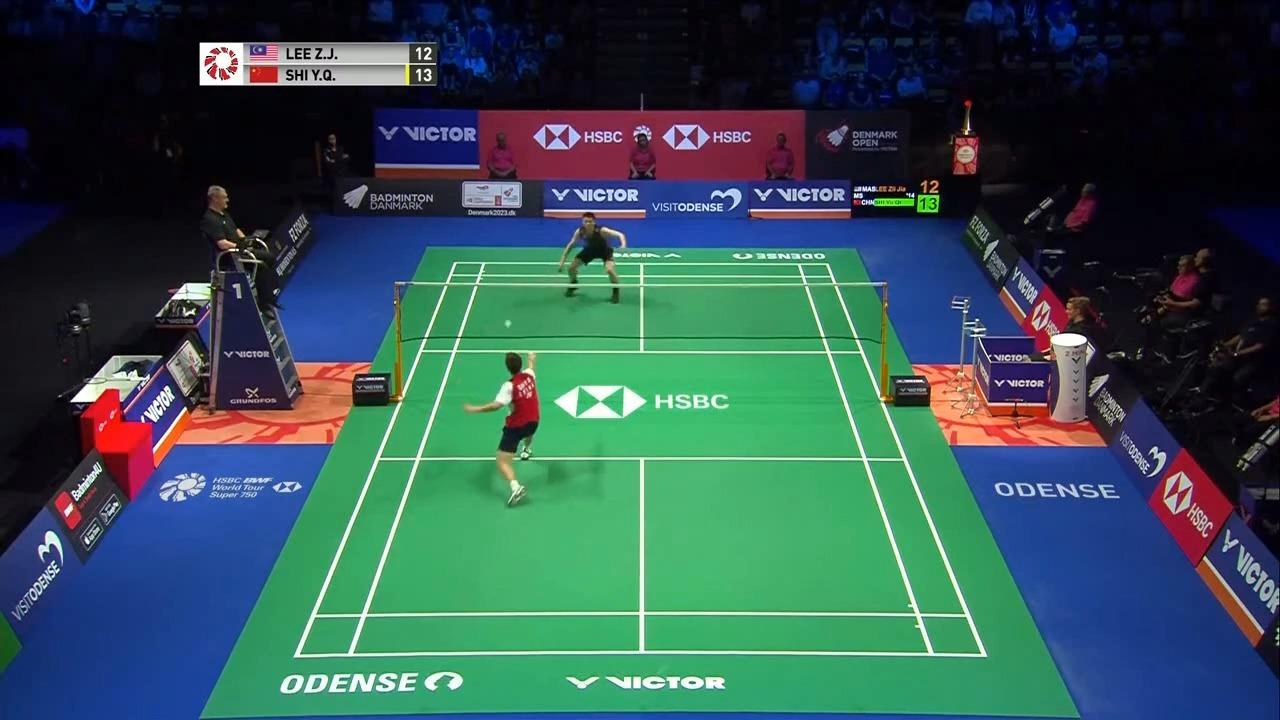shuttle: (504, 317, 514, 331)
